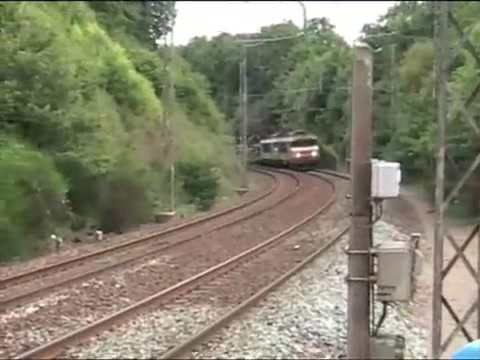train: (248, 130, 323, 173)
